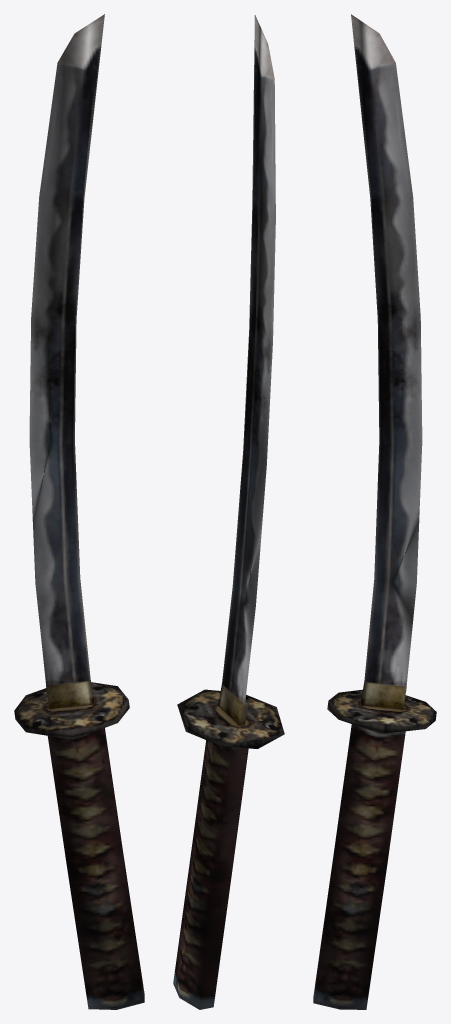
Rendered from katana.obj.
3 renders of one model, left to right at view 1: azimuth 90°, elevation 25°; view 2: azimuth 210°, elevation 25°; view 3: azimuth 270°, elevation 25°, orthographic. The views are drawn at different scales.
Parts seen in each view (by area): view 1: katana; view 2: katana; view 3: katana.
Boxes of the visible parts, x1,y1,x2,y2 form: katana: (14,14,144,1009); katana: (173,15,284,1009); katana: (313,14,436,1009).
Bounding box in the file's own units: 0.16 × 1.65 × 0.1909.
Materials: 1 (1 with a texture image).
